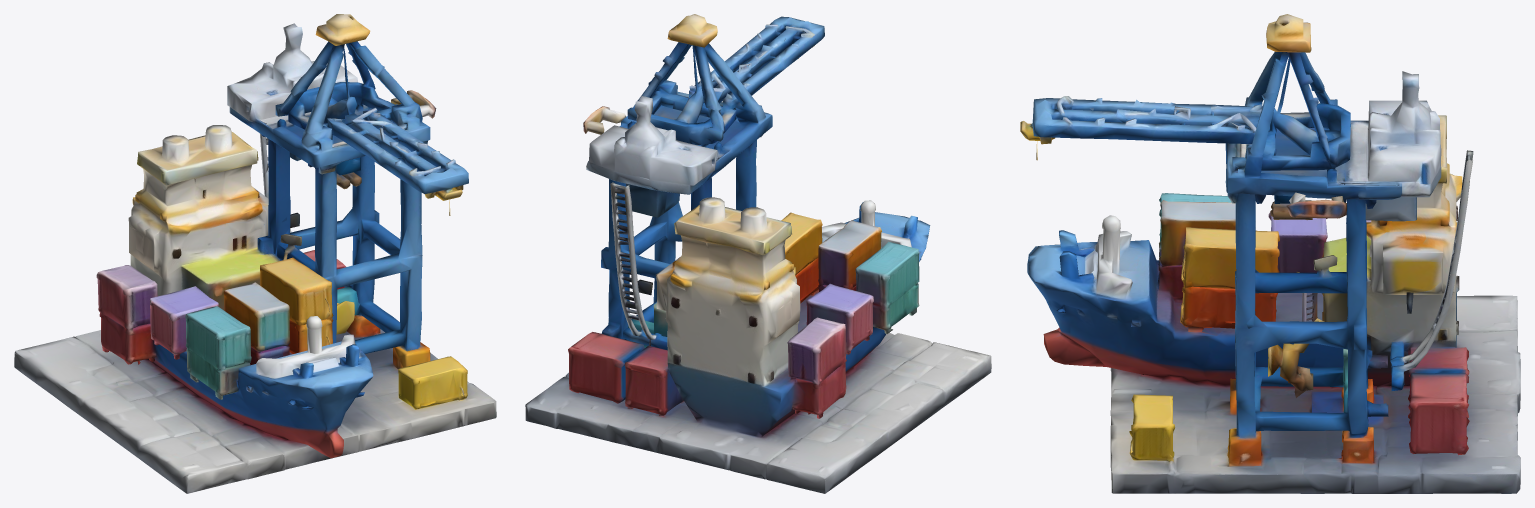
File: yantian.glb
The picture shows the model from 3 angles, left to right: view 1: azimuth 30°, elevation 25°; view 2: azimuth 150°, elevation 25°; view 3: azimuth 270°, elevation 25°; orthographic projection. The views are drawn at different scales.
Visible parts, largest first — view 1: tripo_node_a7d73b6f-c412-4d5d-8346-ba584174bed7; view 2: tripo_node_a7d73b6f-c412-4d5d-8346-ba584174bed7; view 3: tripo_node_a7d73b6f-c412-4d5d-8346-ba584174bed7.
Boxes of the visible parts, x1=… form: tripo_node_a7d73b6f-c412-4d5d-8346-ba584174bed7: x1=14, y1=14, x2=496, y2=493; tripo_node_a7d73b6f-c412-4d5d-8346-ba584174bed7: x1=525, y1=14, x2=991, y2=493; tripo_node_a7d73b6f-c412-4d5d-8346-ba584174bed7: x1=1020, y1=14, x2=1520, y2=493.
Size of the model in its own units: 0.8856 by 0.9596 by 1.
Materials: 1 (1 with a texture image).
